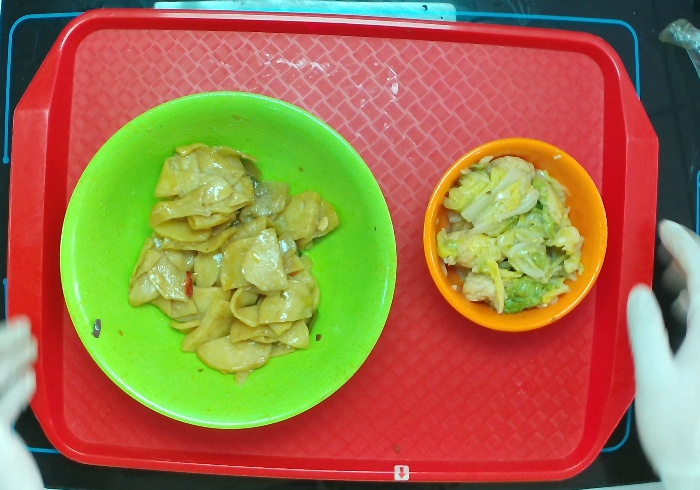YKMZ-Ju_Se_Yuan_Wan: (421, 134, 609, 335)
YKMZ-Lv_Se_Tang_Wan: (58, 87, 399, 431)
